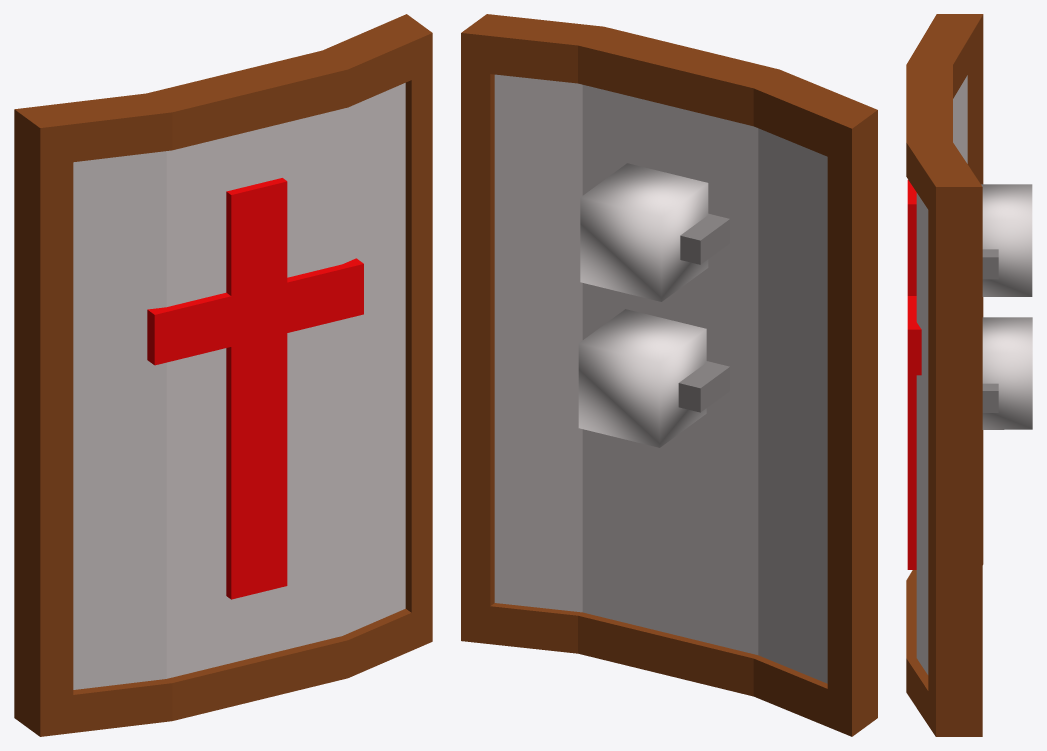
The model's file is tatedake.obj.
The picture shows the model from 3 angles, left to right: view 1: azimuth 30°, elevation 25°; view 2: azimuth 150°, elevation 25°; view 3: azimuth 270°, elevation 25°; orthographic projection. The views are drawn at different scales.
Visible parts, largest first — view 1: 立方体.002; view 2: 立方体.002; view 3: 立方体.002.
Part boxes in pixels (x1,y1,x2,y2): 立方体.002: (14, 14, 432, 736); 立方体.002: (461, 14, 877, 736); 立方体.002: (906, 14, 1032, 736).
Bounding box in the file's own units: 2.9 × 4.3 × 0.8947.
